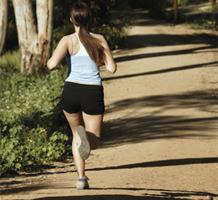person: (44, 4, 118, 187)
